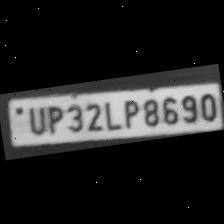0: (195, 88, 220, 123)
2: (81, 100, 104, 132)
3: (61, 100, 84, 134)
6: (158, 93, 181, 127)
8: (138, 94, 162, 128)
9: (176, 90, 200, 124)
L: (100, 98, 121, 131)
P: (118, 96, 140, 130), (42, 102, 65, 134)
U: (23, 103, 48, 136)
